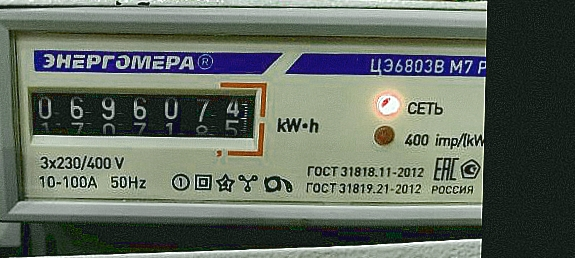0: (34, 94, 54, 120), (161, 94, 179, 121)
4: (223, 95, 240, 117)
5: (223, 118, 239, 138)
6: (129, 93, 148, 121), (66, 94, 85, 119)
7: (193, 96, 210, 122)
9: (98, 94, 115, 120)
screen: (15, 74, 270, 160)
